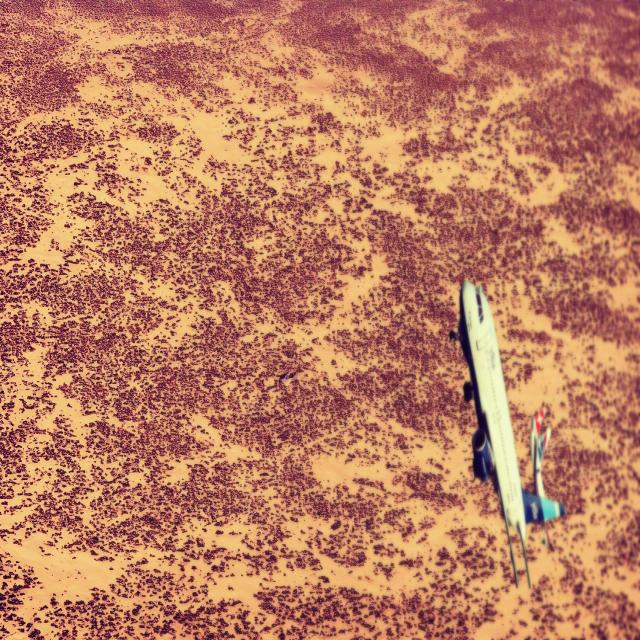airplane: (457, 278, 566, 589)
